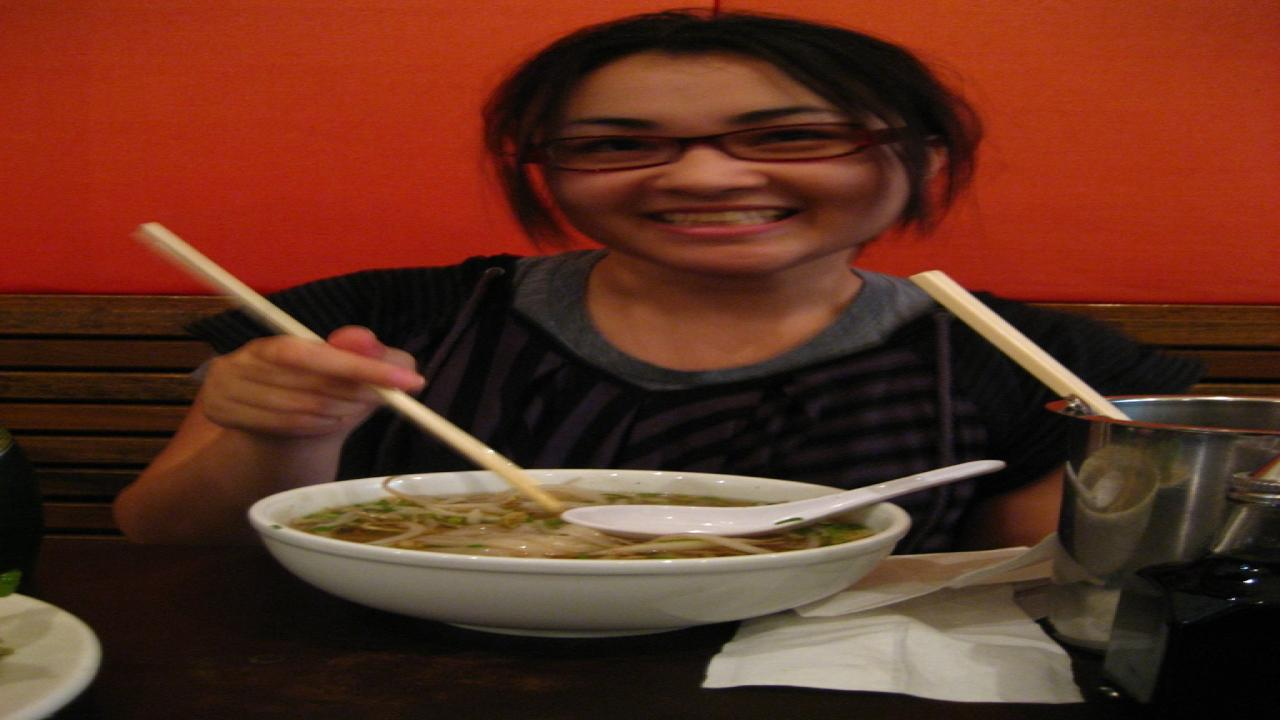chopstick: (145, 220, 581, 527), (910, 270, 1124, 420)
